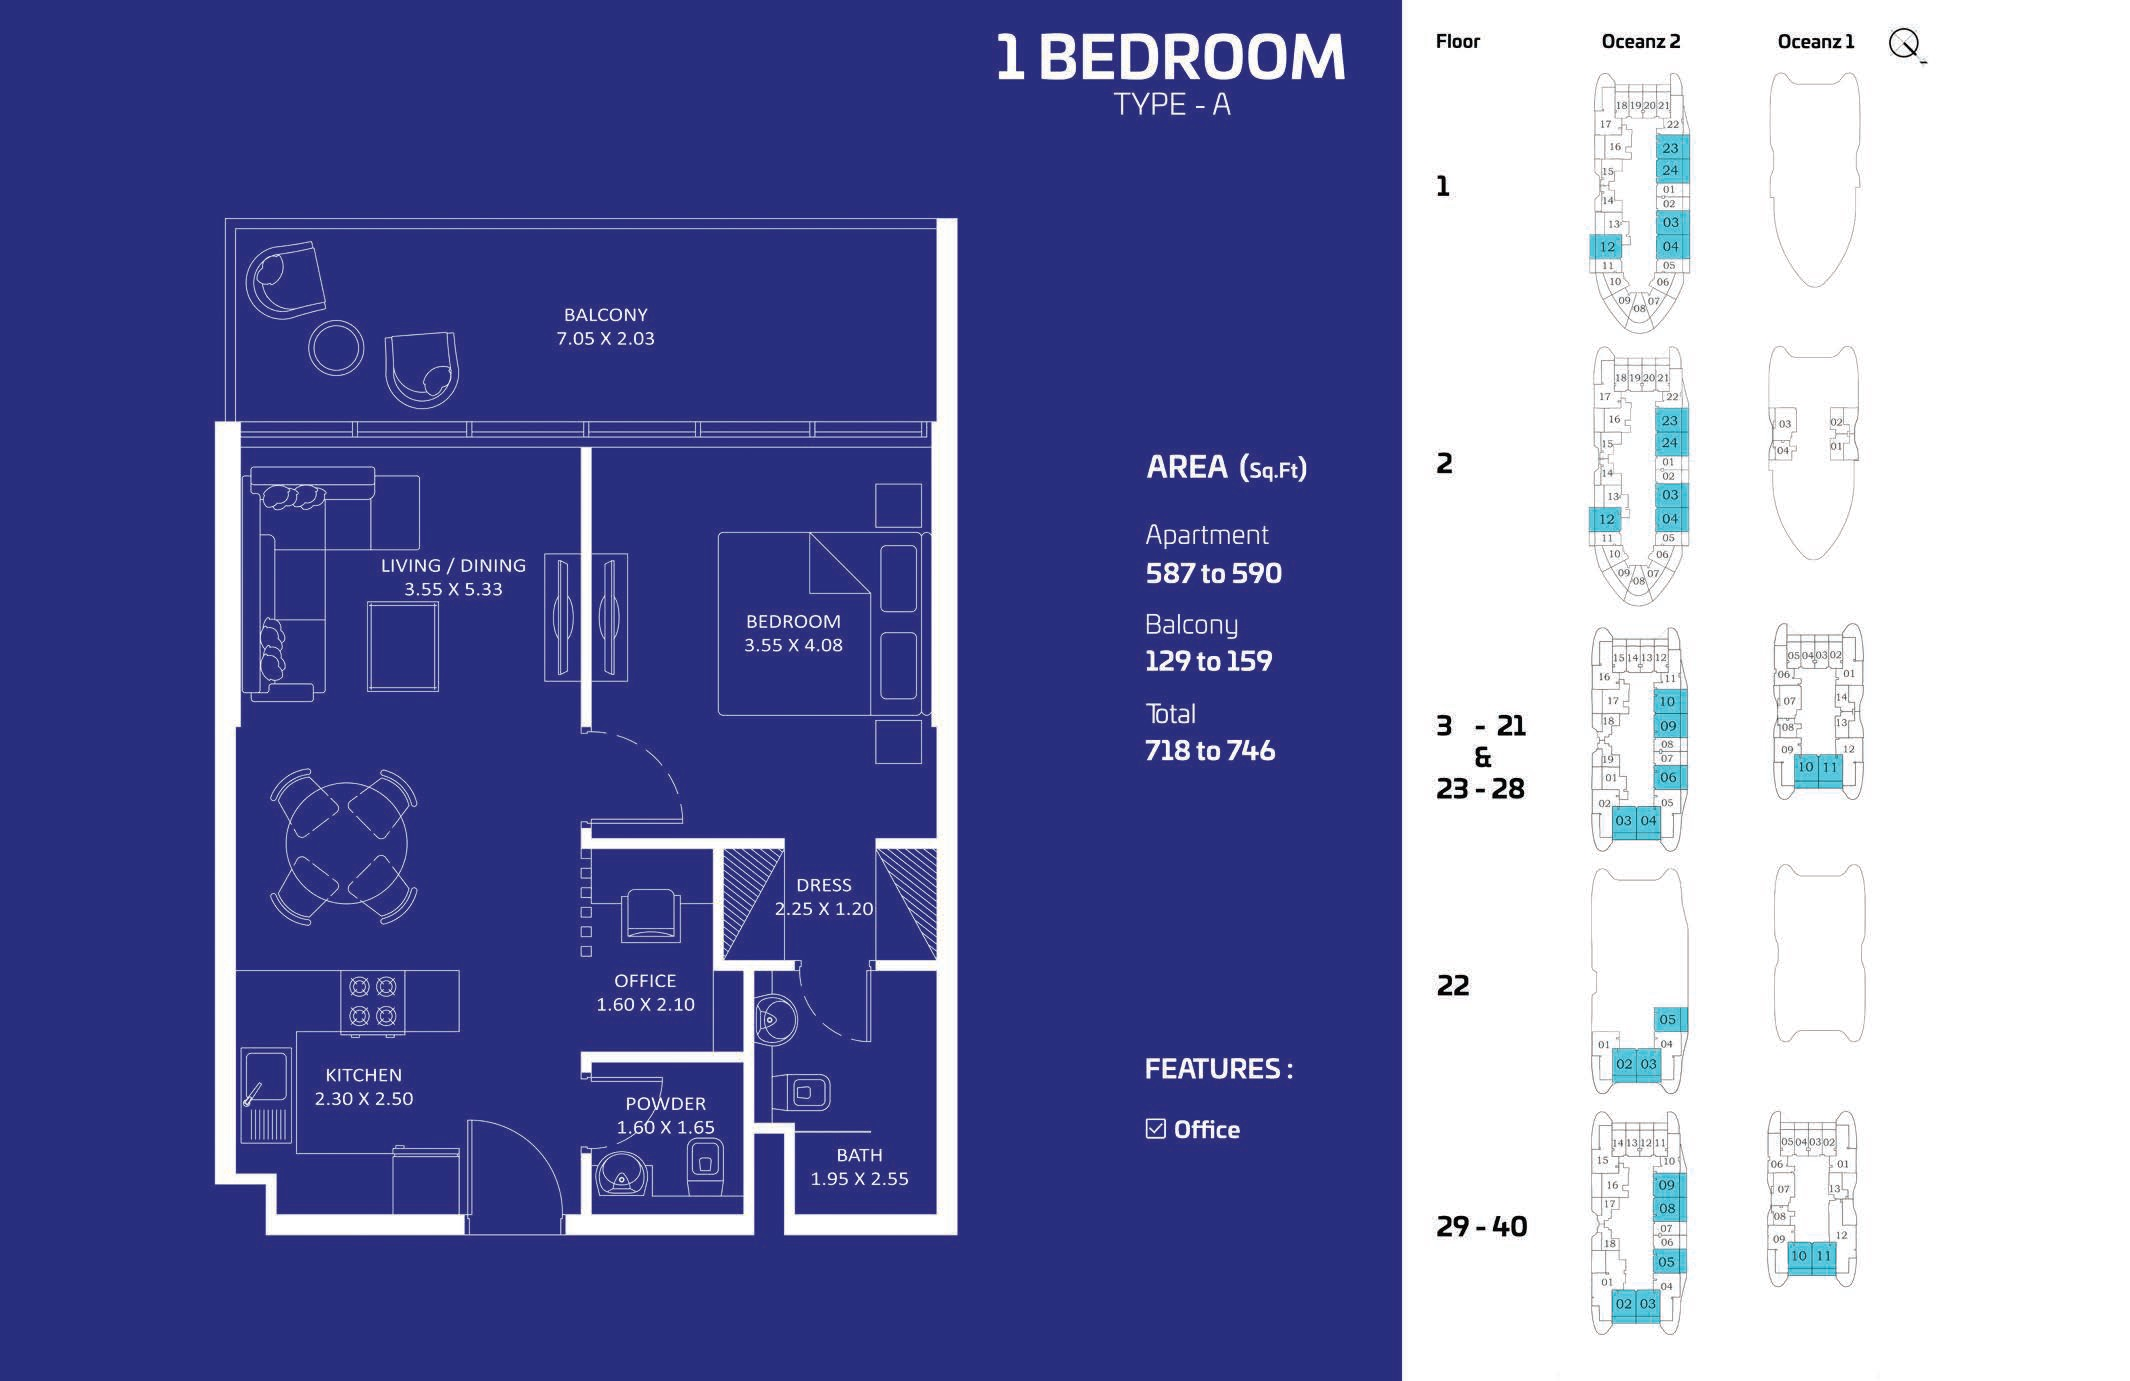door: (466, 1113, 568, 1232), (579, 722, 688, 829), (793, 957, 877, 1049), (581, 1071, 666, 1153)
